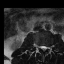CCS_normal: (42, 43, 44, 53)
LFS_normal: (47, 43, 49, 52)
LLS_normal: (44, 43, 47, 52)
RFS_normal: (38, 43, 40, 50)
RLS_normal: (40, 43, 42, 51)
